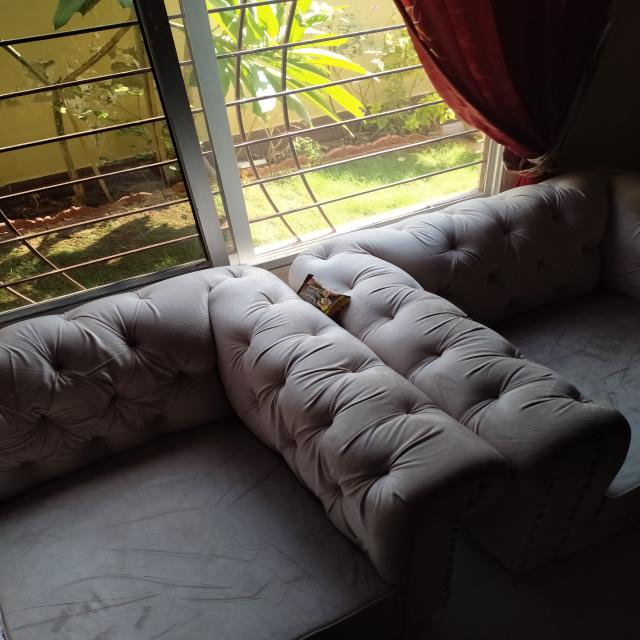Plastic: (296, 267, 358, 330)
